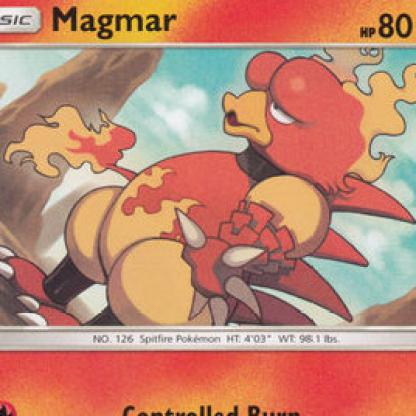Magmar: (1, 10, 416, 348)
